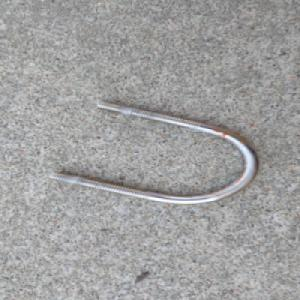ClampPart: (46, 98, 262, 206)
